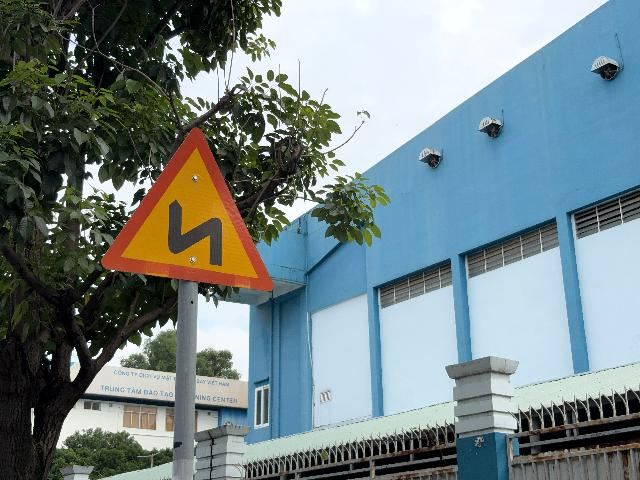nhieu-cho-ngoat-nguy-hiem-lien-tiep: (101, 128, 275, 292)
